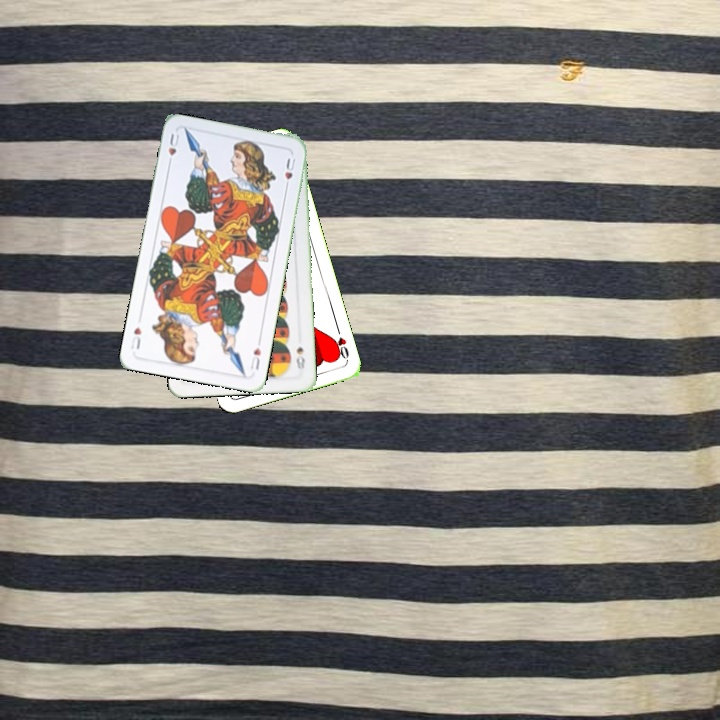HO: (329, 323, 351, 363)
HU: (164, 129, 182, 169), (246, 336, 263, 372)
S8: (292, 342, 307, 373)
